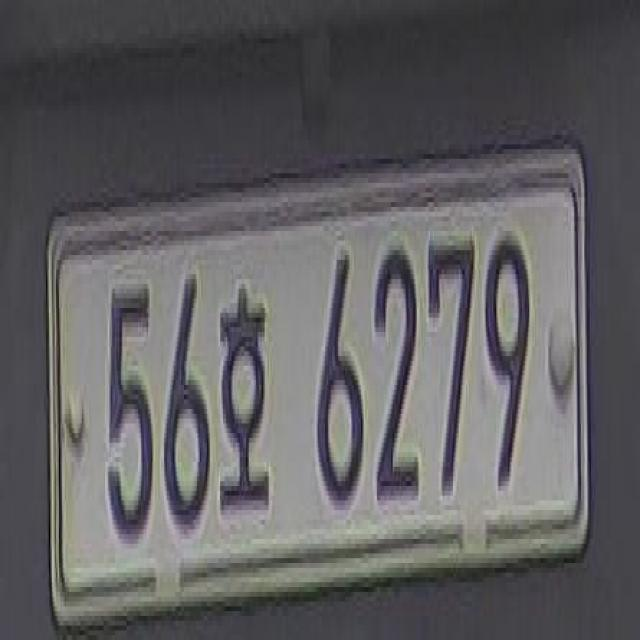2: (369, 223, 422, 514)
5: (102, 271, 152, 545)
6: (311, 238, 367, 518), (161, 258, 211, 540)
7: (426, 214, 476, 502)
9: (481, 214, 535, 506)
ho: (214, 266, 274, 532)
license_plate: (43, 122, 594, 635)
